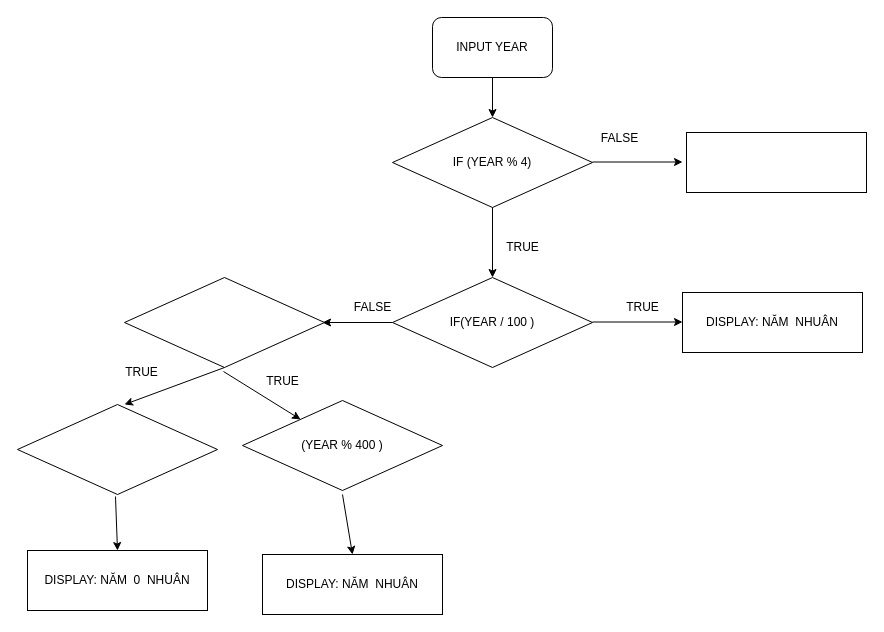
This 884x632 diagram has some shape labels left out. Here are the shapes that lost their labels. From the top down, the centre of each, then its label:
pixel 776 162: END
pixel 224 322: (YEAR % 100 )
pixel 117 449: (YEAR / 400)
